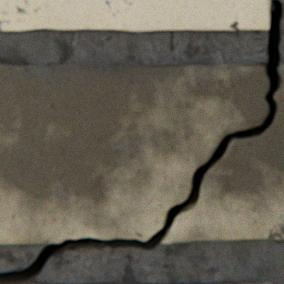brick: (0, 0, 270, 31), (0, 280, 272, 283)
broken_brick: (0, 63, 269, 242), (162, 63, 283, 242)
crack: (0, 0, 283, 282)
